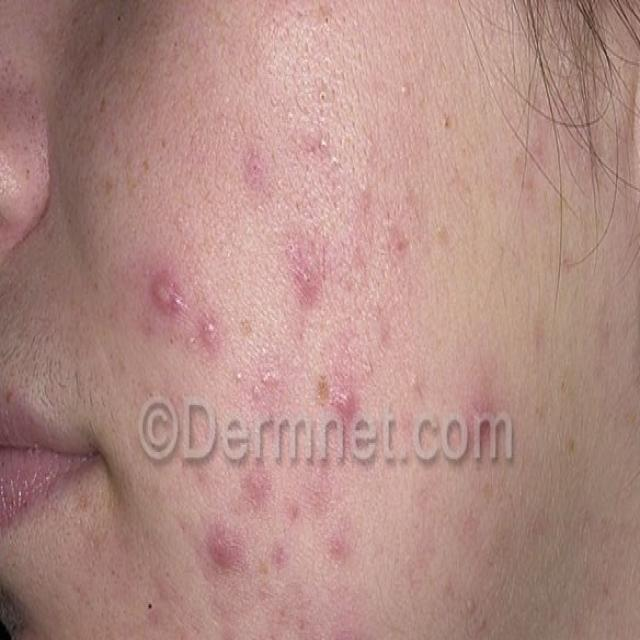Acne: (267, 495, 382, 606), (144, 249, 225, 362), (196, 498, 264, 604), (308, 371, 363, 420), (238, 147, 277, 215), (285, 239, 324, 303), (311, 131, 340, 179)
